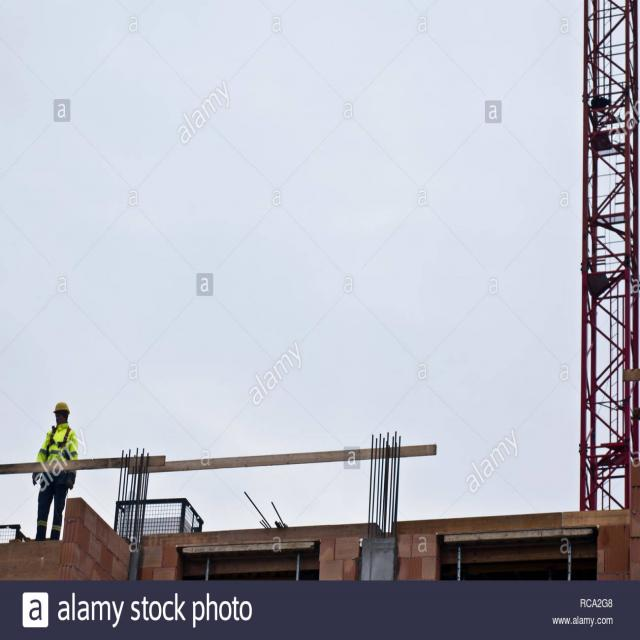Reflective-Jacket: (33, 423, 81, 491)
Safety-Helmet: (51, 396, 73, 416)
